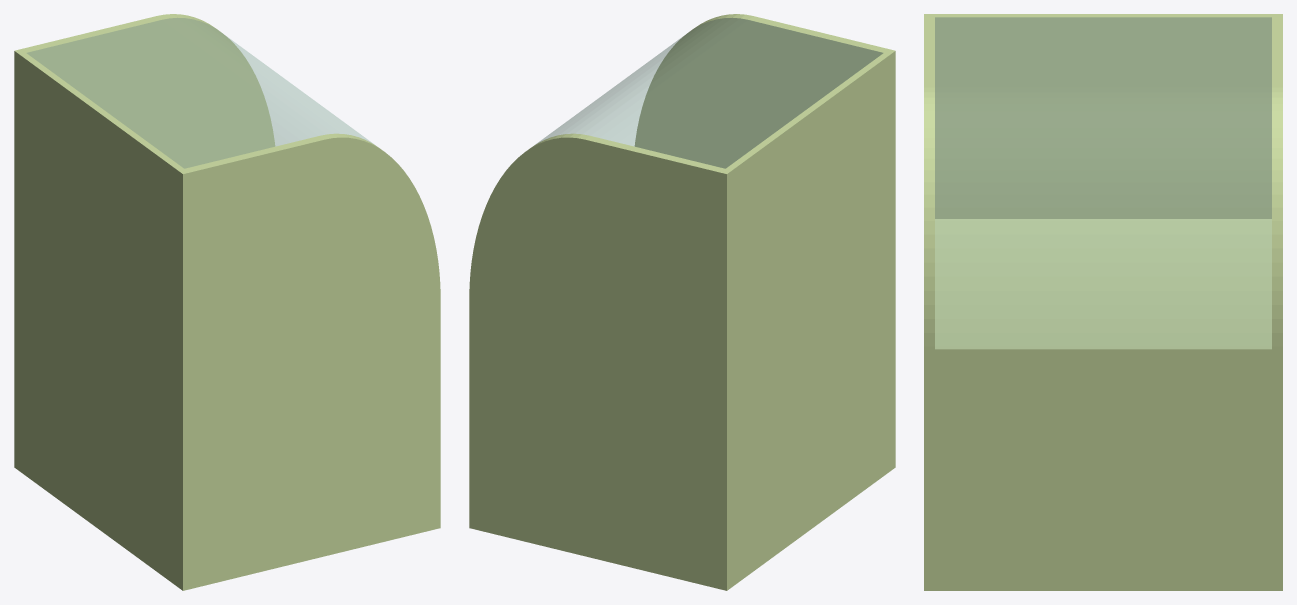
Rendered from ShowCase.glb.
The picture shows the model from 3 angles, left to right: view 1: azimuth 30°, elevation 25°; view 2: azimuth 150°, elevation 25°; view 3: azimuth 270°, elevation 25°; orthographic projection. The views are drawn at different scales.
Visible parts, largest first — view 1: Case, Glass; view 2: Case, Glass; view 3: Case, Glass.
Boxes of the visible parts, x1=… form: Case: x1=14, y1=14, x2=440, y2=590; Glass: x1=27, y1=18, x2=375, y2=168; Case: x1=469, y1=14, x2=895, y2=590; Glass: x1=534, y1=18, x2=882, y2=168; Case: x1=924, y1=14, x2=1282, y2=590; Glass: x1=935, y1=17, x2=1271, y2=348.
Size of the model in its own units: 3.16 by 4.88 by 3.58.
